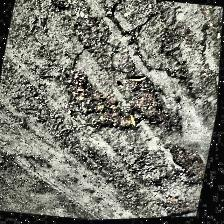pothole: (60, 70, 173, 142), (166, 144, 212, 190), (156, 194, 202, 218)
